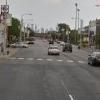Crosswalk: (4, 52, 90, 71)
